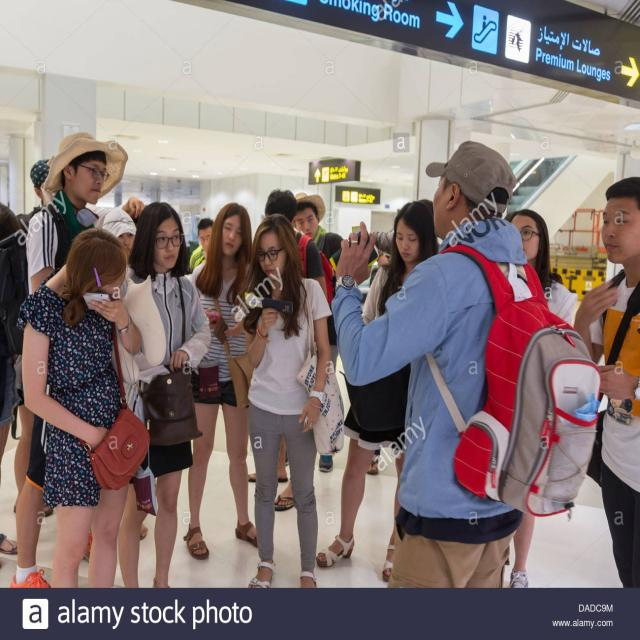body: (331, 136, 530, 586), (10, 126, 130, 588), (315, 200, 439, 584), (19, 226, 144, 590), (115, 200, 212, 590), (242, 210, 334, 603), (569, 178, 640, 588), (183, 202, 264, 560), (509, 208, 579, 589), (248, 188, 328, 512), (283, 191, 344, 474), (0, 199, 17, 568), (102, 207, 137, 257), (189, 217, 216, 273), (25, 155, 49, 209), (367, 450, 390, 478), (372, 227, 392, 254), (121, 196, 144, 219), (0, 530, 18, 558)
